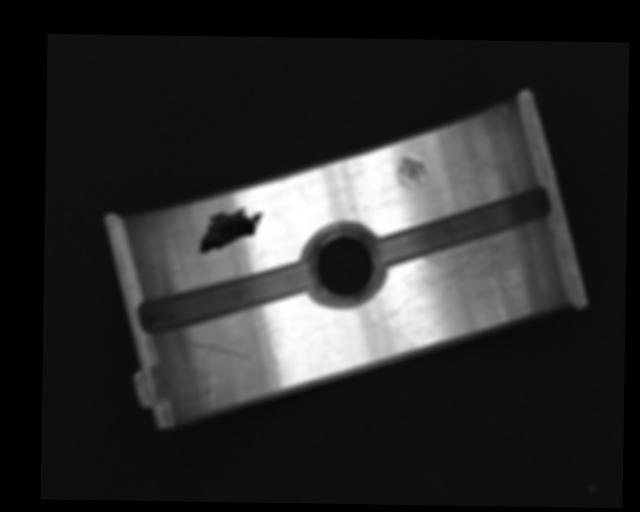blot: (198, 206, 265, 257)
bruise: (395, 156, 428, 191)
gap: (375, 186, 550, 269), (140, 259, 314, 337)
hole: (304, 227, 383, 305)
nick: (187, 339, 281, 368)
scratch: (388, 227, 554, 320)
